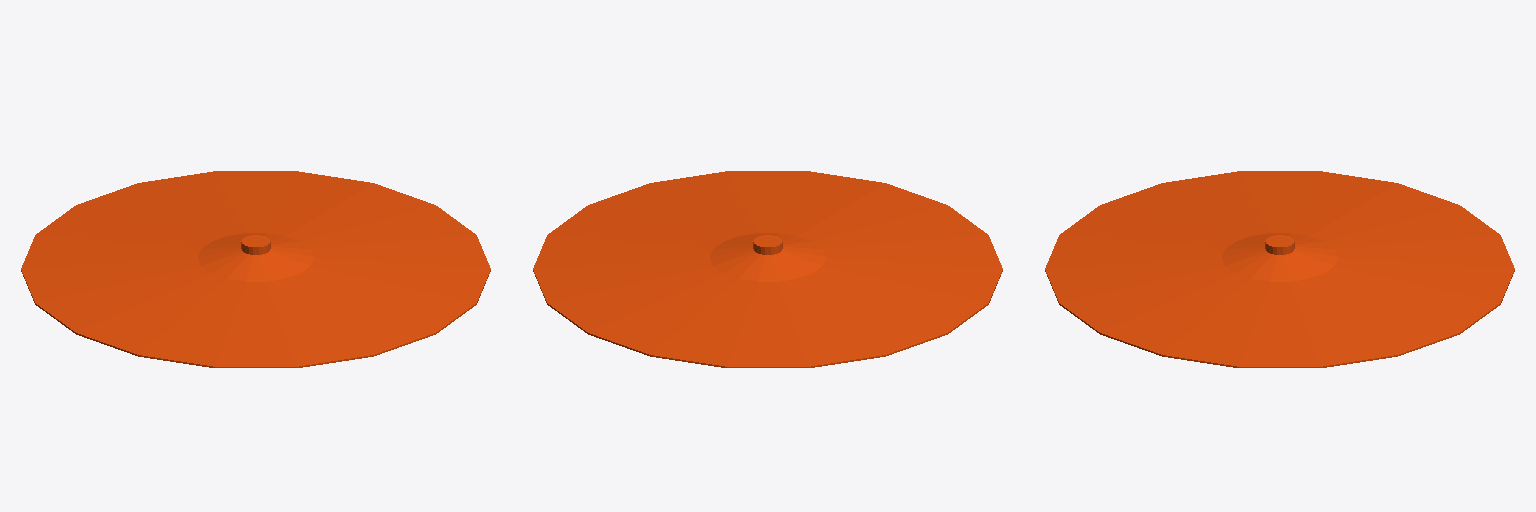
The model's file is cymbal.obj.
The picture shows the model from 3 angles: view 1: azimuth 30°, elevation 25°; view 2: azimuth 150°, elevation 25°; view 3: azimuth 270°, elevation 25°; orthographic projection.
Parts seen in each view (by area): view 1: Cylinder001; view 2: Cylinder001; view 3: Cylinder001.
Boxes of the visible parts, x1,y1,x2,y2 form: Cylinder001: [21, 171, 490, 367]; Cylinder001: [533, 171, 1002, 367]; Cylinder001: [1045, 171, 1514, 367].
Bounding box in the file's own units: 1105036 × 77317 × 1122083.